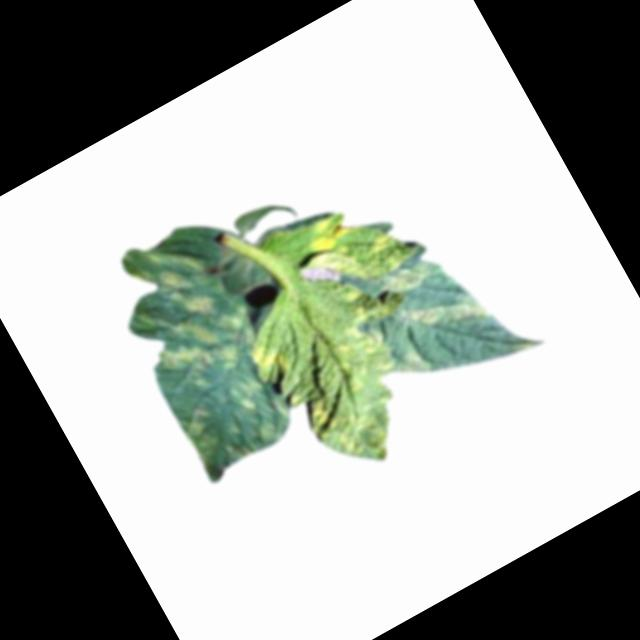Leaf_Mold: (109, 215, 263, 393), (272, 318, 430, 484), (198, 368, 299, 468), (394, 272, 491, 355), (298, 201, 369, 266), (368, 246, 441, 308), (169, 405, 231, 475), (247, 337, 292, 381)
